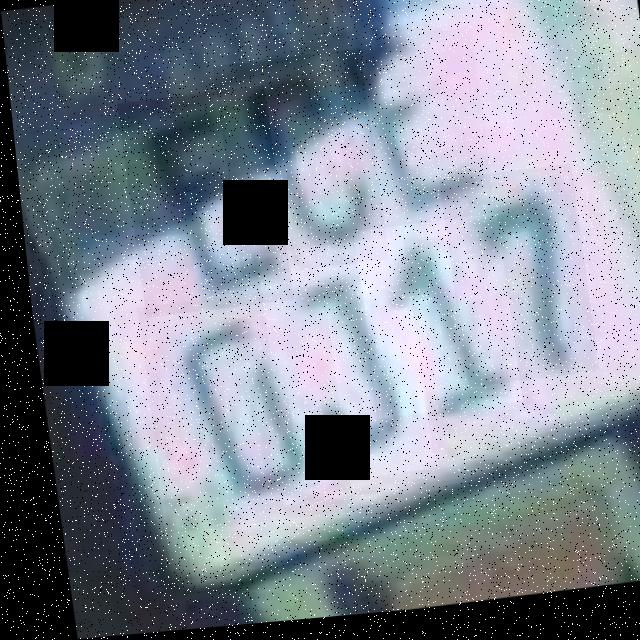0: (129, 289, 343, 536)
1: (346, 221, 513, 425)
7: (434, 173, 590, 395)
C: (210, 54, 383, 282)
E: (333, 34, 490, 225)
J: (249, 242, 424, 491)
P: (114, 89, 287, 320)
